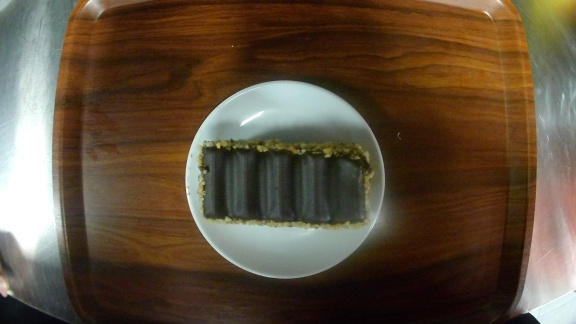muzlupasta: (185, 80, 386, 280)
